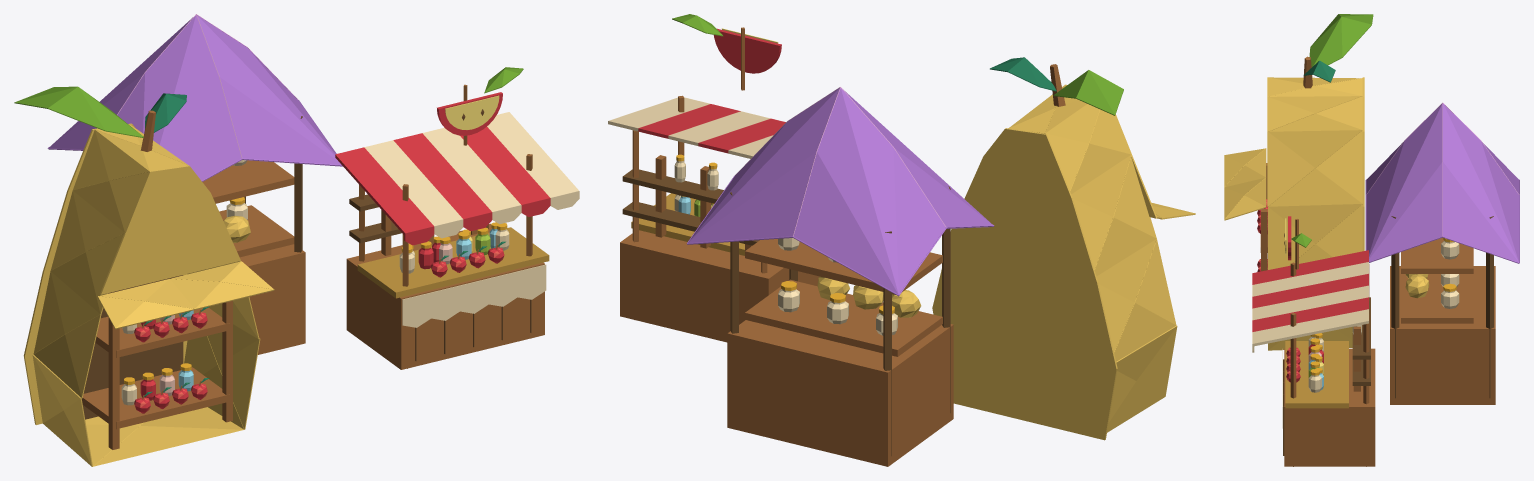
Rendered from building.glb.
3 renders of one model, left to right at view 1: azimuth 30°, elevation 25°; view 2: azimuth 150°, elevation 25°; view 3: azimuth 270°, elevation 25°, orthographic. The views are drawn at different scales.
Parts seen in each view (by area): view 1: 03_Market_HollowPearKiosk, 03_Market_AppleStall, 03_Market_LavenderCanopy; view 2: 03_Market_LavenderCanopy, 03_Market_HollowPearKiosk, 03_Market_AppleStall; view 3: 03_Market_LavenderCanopy, 03_Market_HollowPearKiosk, 03_Market_AppleStall.
Part boxes in pixels (box(x1,y1,x2,y2)): 03_Market_HollowPearKiosk: box(14, 86, 274, 466); 03_Market_AppleStall: box(335, 67, 579, 369); 03_Market_LavenderCanopy: box(47, 14, 342, 354); 03_Market_LavenderCanopy: box(687, 87, 994, 466); 03_Market_HollowPearKiosk: box(932, 57, 1195, 440); 03_Market_AppleStall: box(608, 14, 819, 342); 03_Market_LavenderCanopy: box(1365, 102, 1519, 404); 03_Market_HollowPearKiosk: box(1224, 14, 1373, 350); 03_Market_AppleStall: box(1252, 216, 1375, 466).
Size of the model in its own units: 1.3 by 0.86 by 0.8119.
